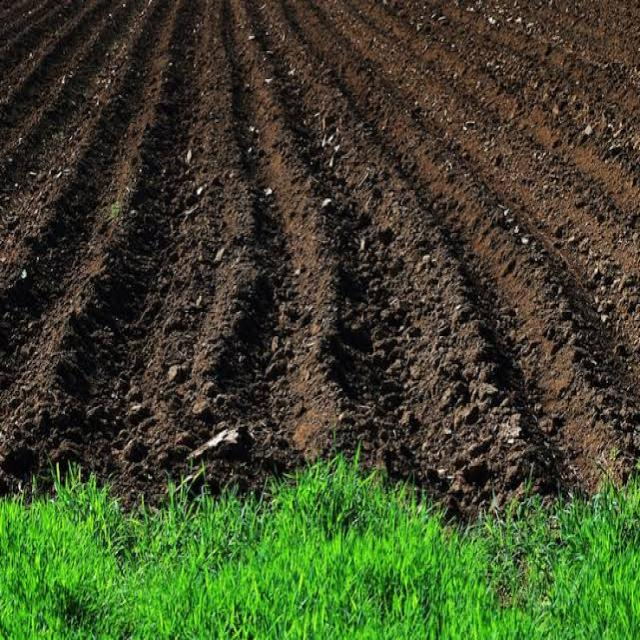suelo_humedo: (115, 104, 620, 603)
